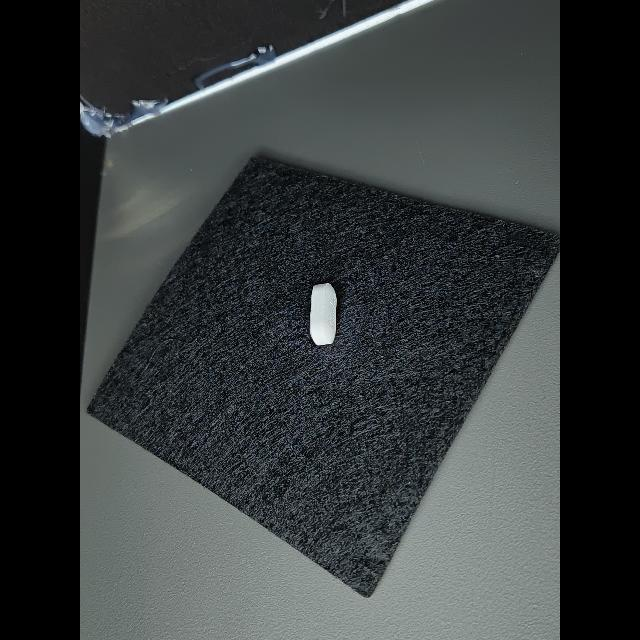Intact Pill: (310, 283, 336, 345)
